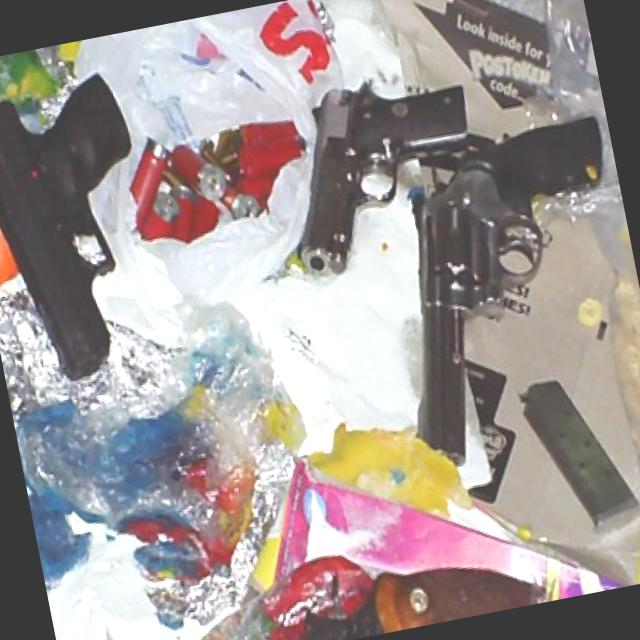handgun: (355, 105, 639, 467), (0, 66, 172, 394), (262, 58, 493, 277)
